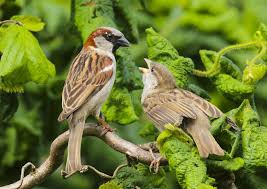hsparrow: (134, 57, 244, 172), (58, 23, 131, 178)
